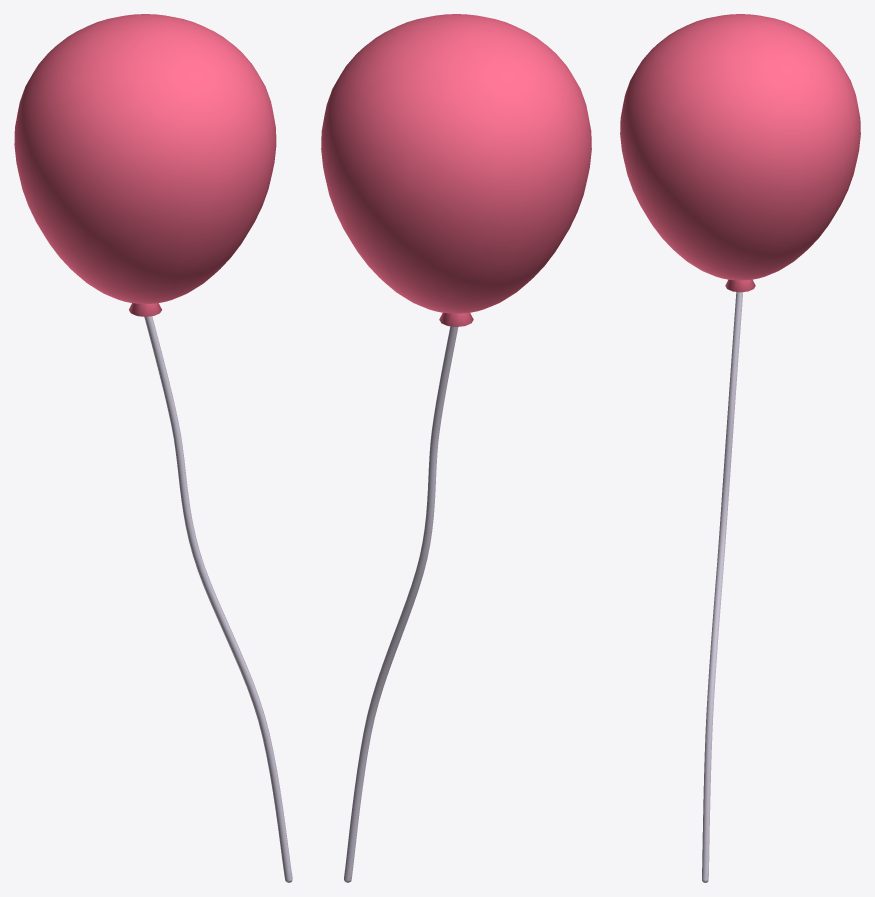
Rendered from prop-balloon.glb.
The picture shows the model from 3 angles, left to right: view 1: azimuth 30°, elevation 25°; view 2: azimuth 150°, elevation 25°; view 3: azimuth 270°, elevation 25°; orthographic projection. The views are drawn at different scales.
Parts seen in each view (by area): view 1: prop-balloon-mesh; view 2: prop-balloon-mesh; view 3: prop-balloon-mesh.
Boxes of the visible parts, x1,y1,x2,y2 form: prop-balloon-mesh: (14, 14, 292, 882); prop-balloon-mesh: (321, 14, 591, 882); prop-balloon-mesh: (620, 14, 860, 882).
Size of the model in its own units: 0.583 by 2.01 by 0.5479.
